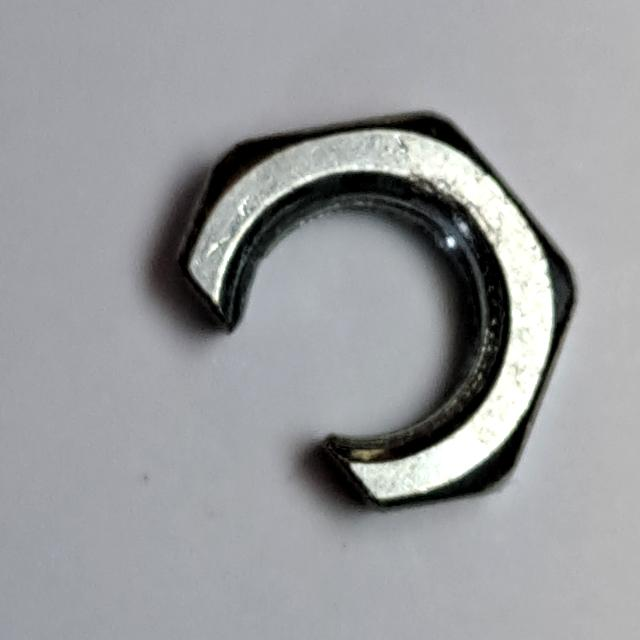Fracture: (162, 100, 589, 530)
